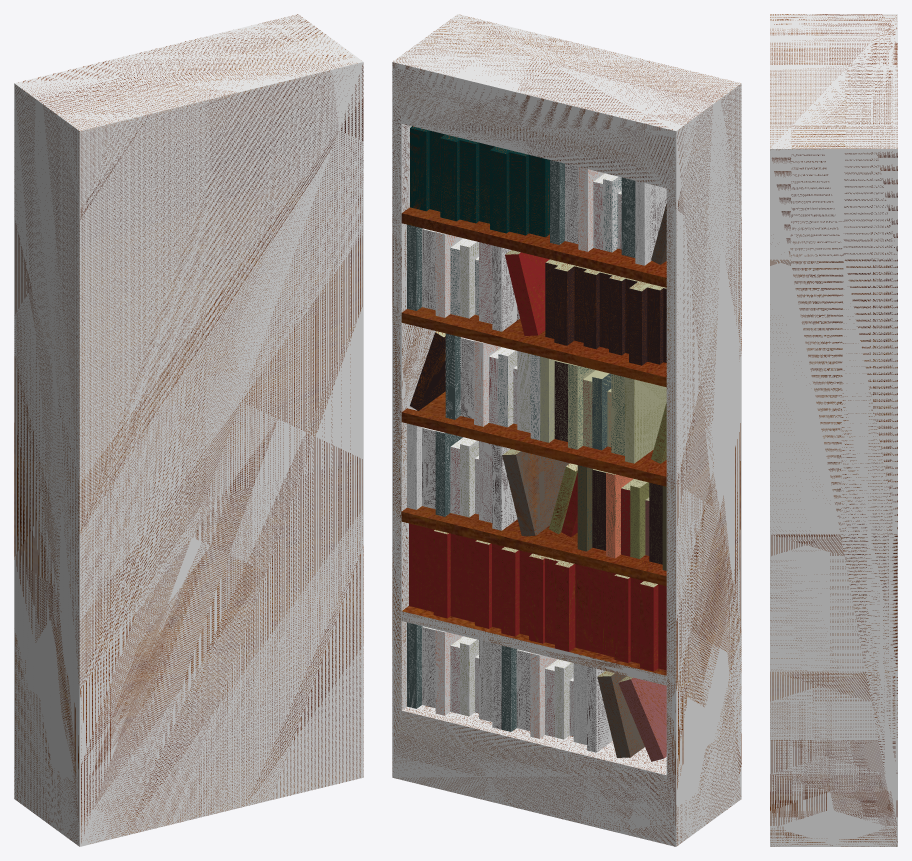
The picture shows the model from 3 angles, left to right: view 1: azimuth 30°, elevation 25°; view 2: azimuth 150°, elevation 25°; view 3: azimuth 270°, elevation 25°; orthographic projection. The views are drawn at different scales.
Visible parts, largest first — view 1: mesh26_mesh26-geometry; view 2: mesh26_mesh26-geometry, mesh9_mesh9-geometry, mesh11_mesh11-geometry, mesh7_mesh7-geometry, mesh3_mesh3-geometry, mesh5_mesh5-geometry, mesh13_mesh13-geometry, mesh1_mesh1-geometry, mesh15_mesh15-geometry, mesh17_mesh17-geometry, mesh25_mesh25-geometry, mesh22_mesh22-geometry (+3 smaller); view 3: mesh26_mesh26-geometry.
Boxes of the visible parts, x1,y1,x2,y2 form: mesh26_mesh26-geometry: (14,14,363,846); mesh26_mesh26-geometry: (392,14,741,846); mesh9_mesh9-geometry: (540,356,666,463); mesh11_mesh11-geometry: (550,160,666,265); mesh7_mesh7-geometry: (407,224,519,331); mesh3_mesh3-geometry: (501,645,612,752); mesh5_mesh5-geometry: (407,423,517,530); mesh13_mesh13-geometry: (445,333,540,440); mesh1_mesh1-geometry: (407,622,501,729); mesh15_mesh15-geometry: (577,465,666,570); mesh17_mesh17-geometry: (502,449,569,536); mesh25_mesh25-geometry: (618,676,666,761); mesh22_mesh22-geometry: (505,250,549,335); mesh26_mesh26-geometry: (770,14,897,846).
Size of the model in its own units: 0.379 by 0.9129 by 0.1516.
